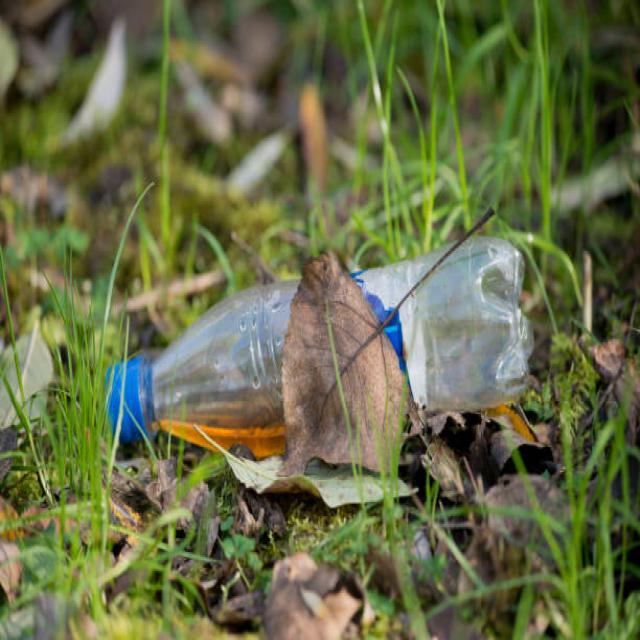plastic: (110, 239, 533, 451)
